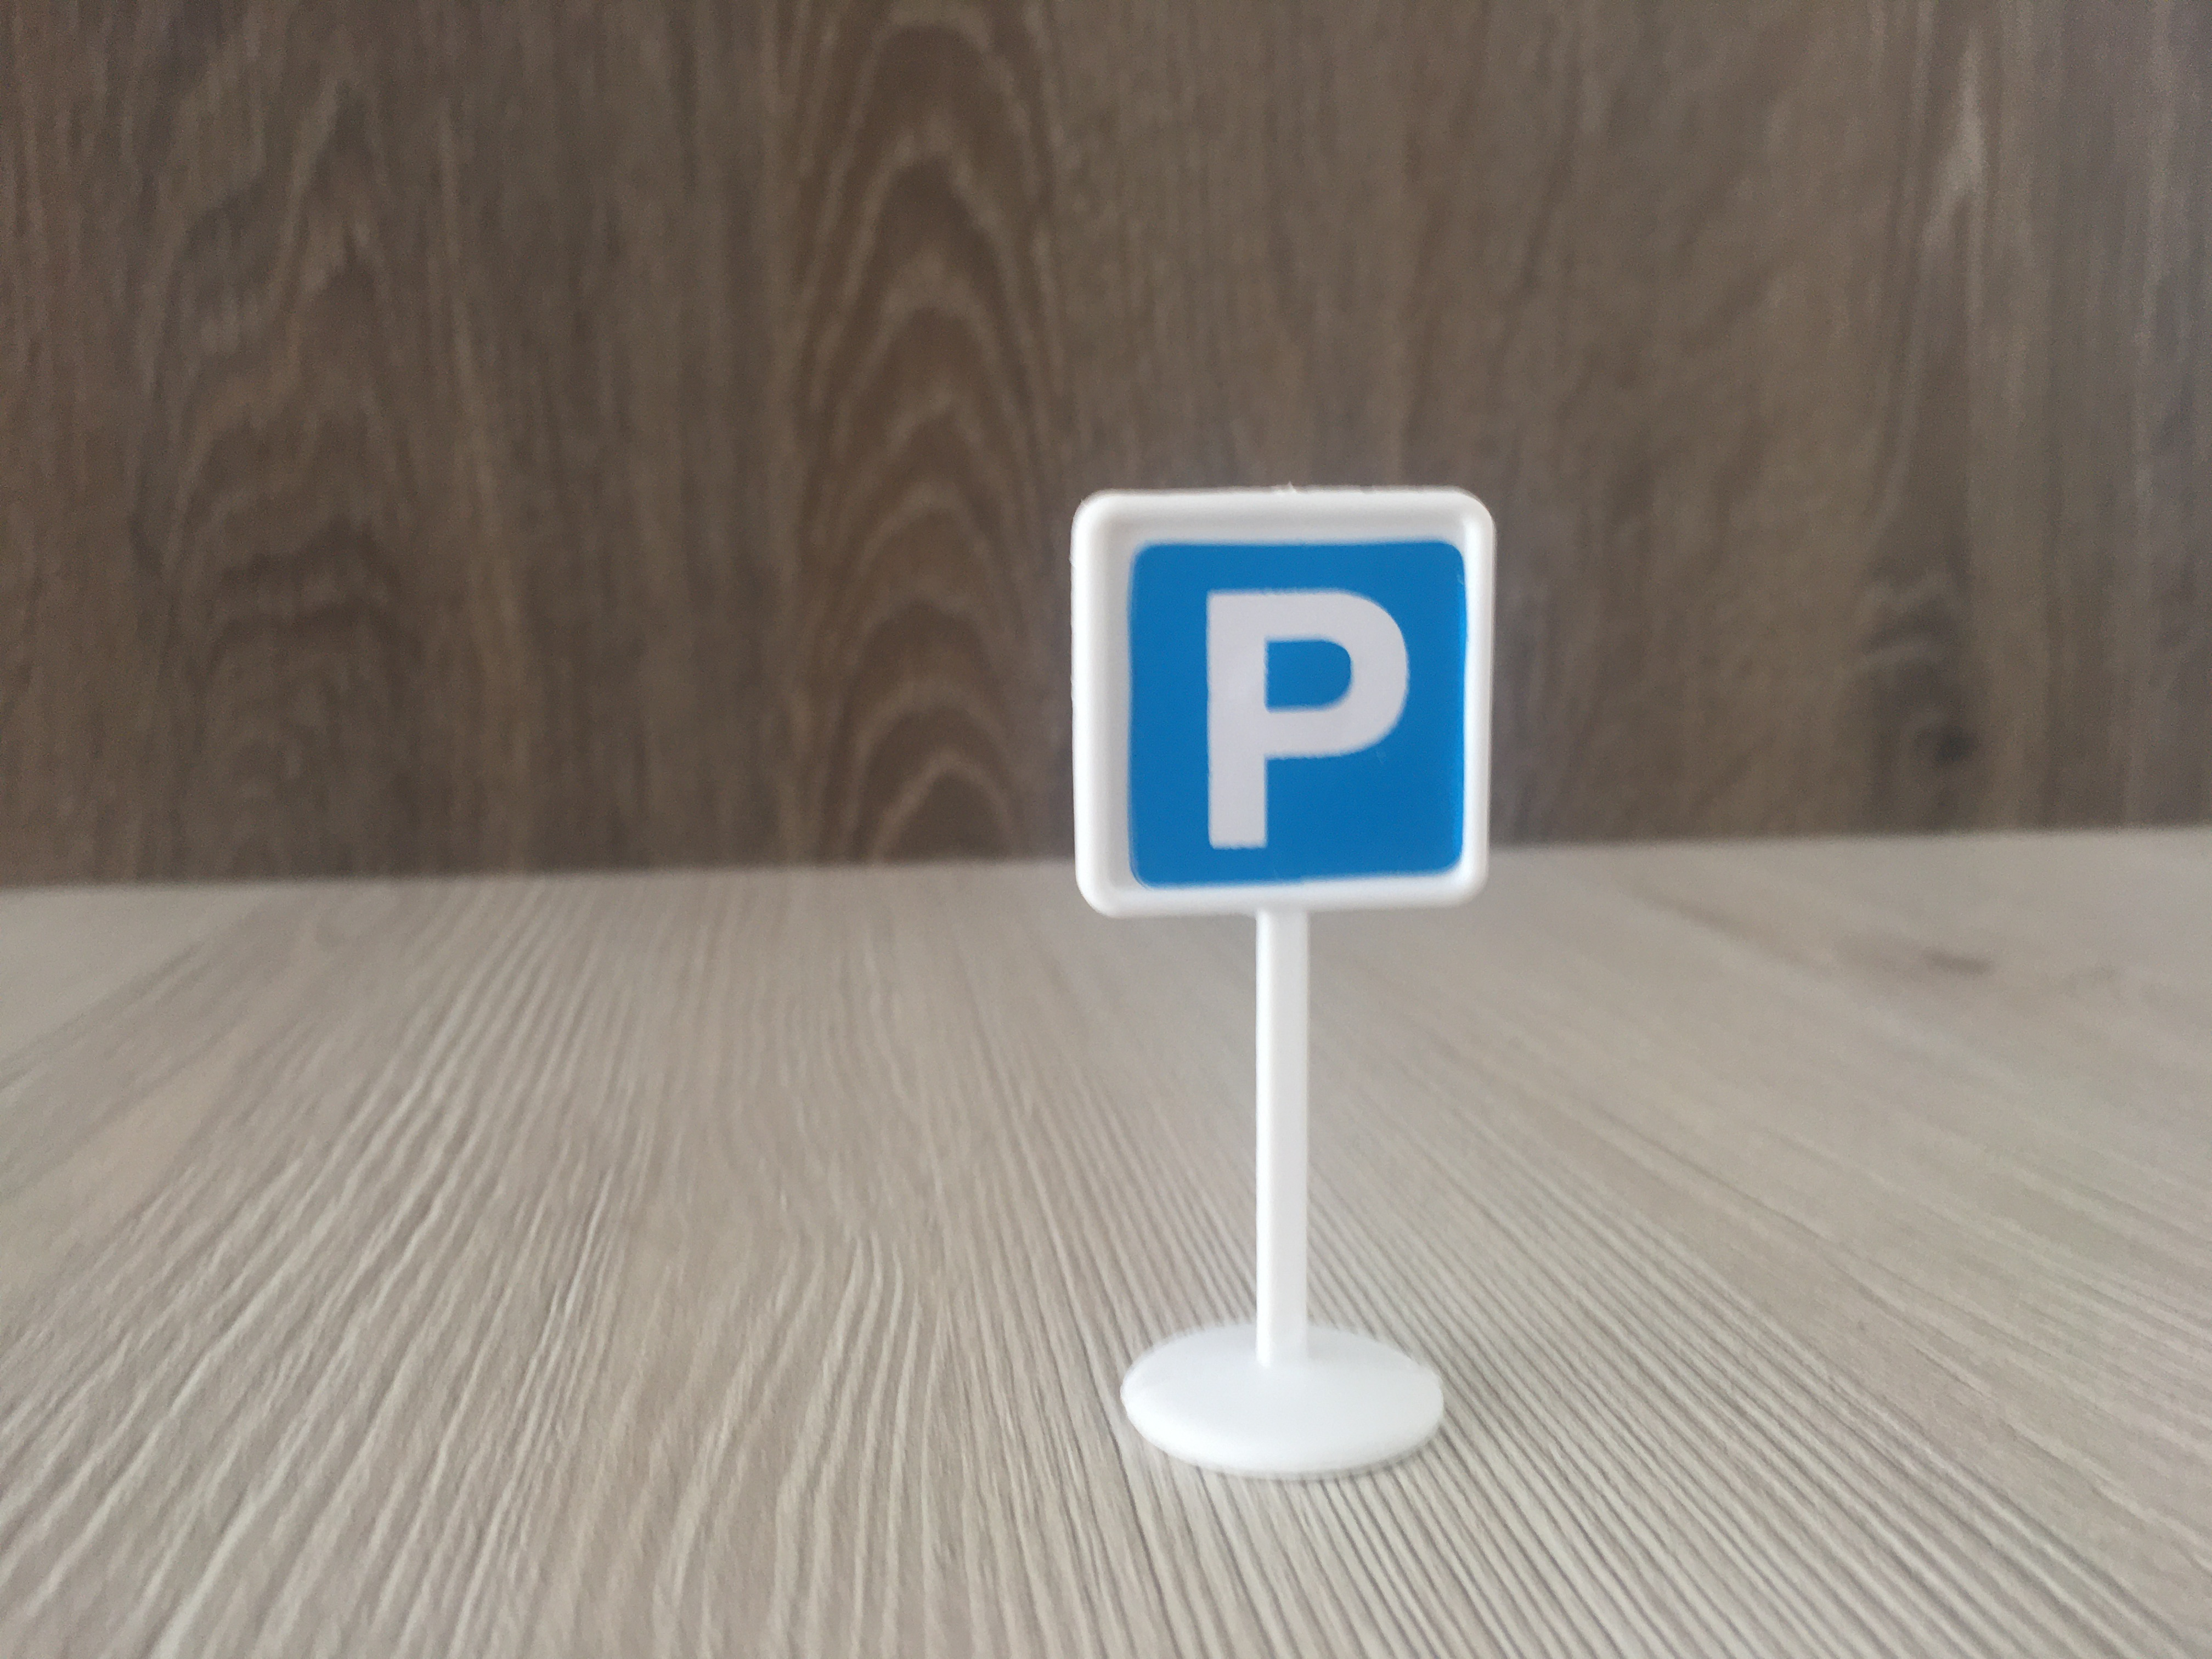parking: (1059, 481, 1491, 911)
